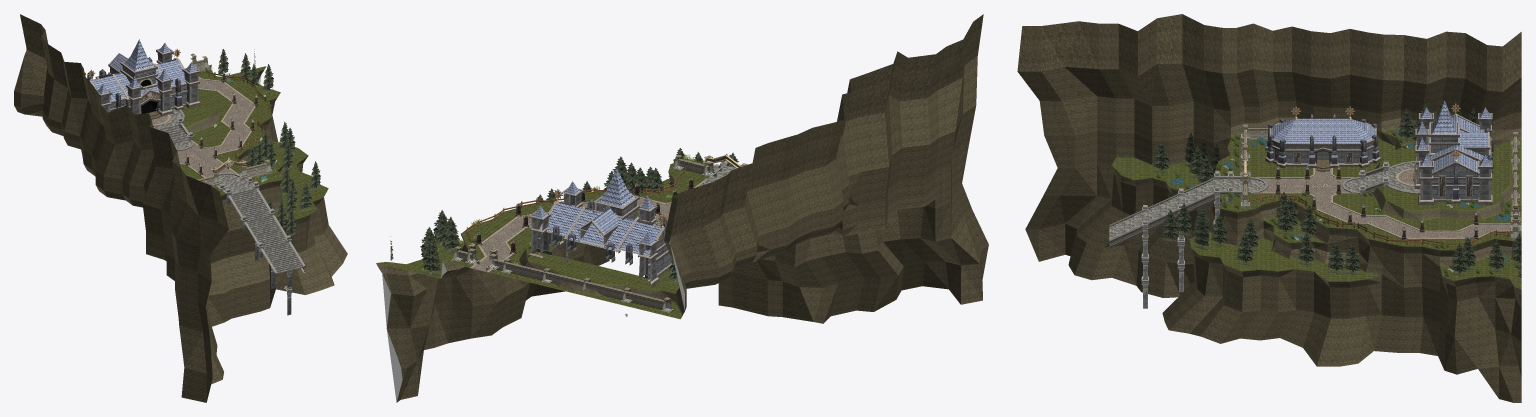
Rendered from Cathedral.obj.
3 renders of one model, left to right at view 1: azimuth 30°, elevation 25°; view 2: azimuth 150°, elevation 25°; view 3: azimuth 270°, elevation 25°, orthographic. The views are drawn at different scales.
Visible parts, largest first — view 1: Object.56, Object.74, Object.42, Object.65, Object.52, Object.73, Object.75, Object.67, Object.36, Object.84, Object.55, Object.76 (+44 smaller); view 2: Object.58, Object.36, Object.66, Object.75, Object.42, Object.80, Object.43, Object.76, Object.84, Object.56, Object.54, Object.79 (+36 smaller); view 3: Object.65, Object.75, Object.84, Object.76, Object.74, Object.36, Object.66, Object.80, Object.42, Object.43, Object.67, Object.45 (+83 smaller).
Part boxes in pixels (x1,y1,x2,y2): Object.56: (212,250,275,322); Object.74: (99,103,154,186); Object.42: (179,325,223,402); Object.65: (176,175,228,254); Object.52: (275,234,334,294); Object.73: (95,139,154,201); Object.75: (142,167,174,253); Object.67: (176,216,217,305); Object.36: (163,197,197,295); Object.84: (61,54,92,140); Object.55: (212,200,258,262); Object.76: (144,114,174,208); Object.58: (775,252,863,323); Object.36: (898,91,955,200); Object.66: (889,39,962,146); Object.75: (843,96,902,229); Object.42: (902,210,988,304); Object.80: (759,122,833,225); Object.43: (862,238,960,311); Object.76: (844,52,897,170); Object.84: (723,137,786,251); Object.56: (718,259,782,316); Object.54: (875,166,951,249); Object.79: (770,172,843,249); Object.65: (1017,21,1099,100); Object.75: (1152,64,1230,159); Object.84: (1350,29,1426,113); Object.76: (1157,14,1222,107); Object.74: (1222,23,1291,110); Object.36: (1075,69,1152,162); Object.66: (1079,18,1156,105); Object.80: (1292,26,1368,106); Object.42: (1025,195,1096,279); Object.43: (1077,196,1159,285); Object.67: (1039,67,1096,167); Object.45: (1280,310,1358,366).
Bounding box in the file's own units: 82.72 × 61.78 × 112.
